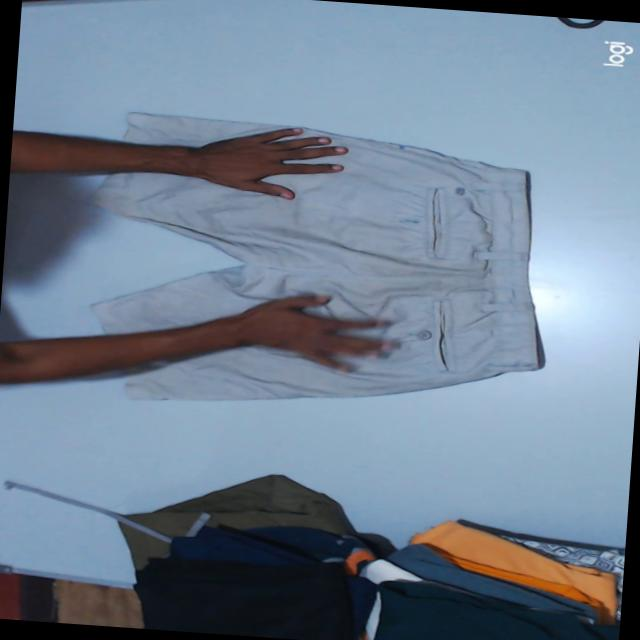new-garment: (93, 128, 539, 399), (124, 112, 274, 146)
